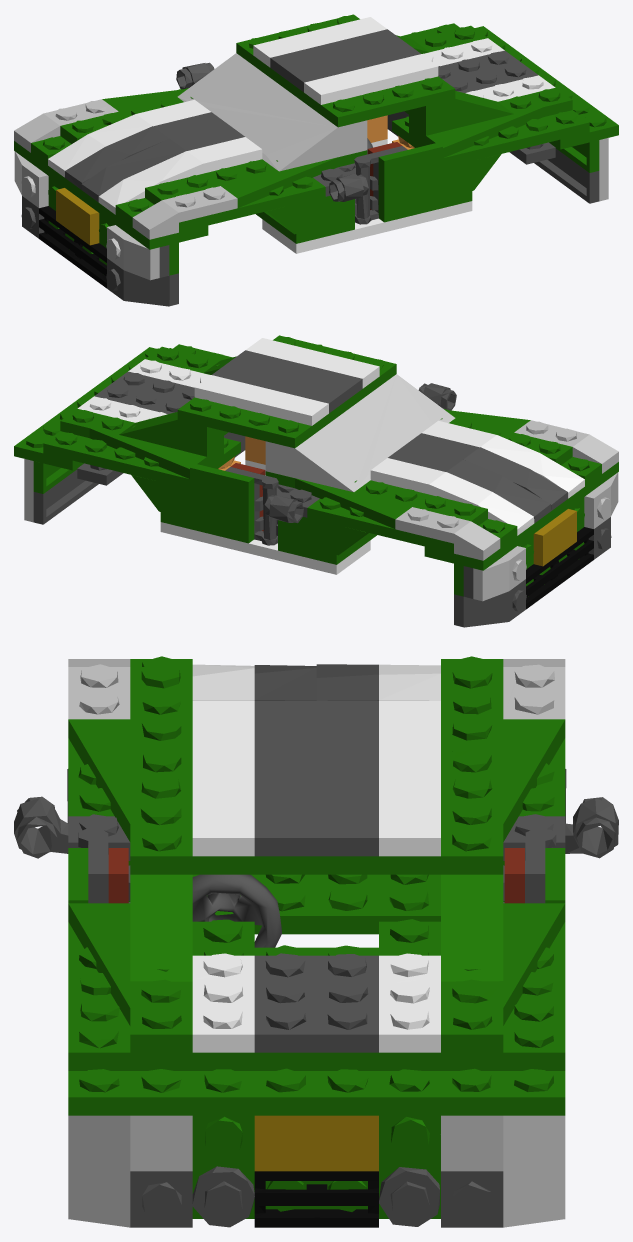
The model's file is greenCar.obj.
3 renders of one model, top to bottom at view 1: azimuth 30°, elevation 25°; view 2: azimuth 150°, elevation 25°; view 3: azimuth 270°, elevation 25°, orthographic. The views are drawn at different scales.
Parts seen in each view (by area): view 1: Circle.259; view 2: Circle.259; view 3: Circle.259.
Boxes of the visible parts, x1,y1,x2,y2 form: Circle.259: [14, 14, 618, 306]; Circle.259: [14, 335, 618, 627]; Circle.259: [14, 656, 618, 1227].
Size of the model in its own units: 66.1 by 18.44 by 38.94.
